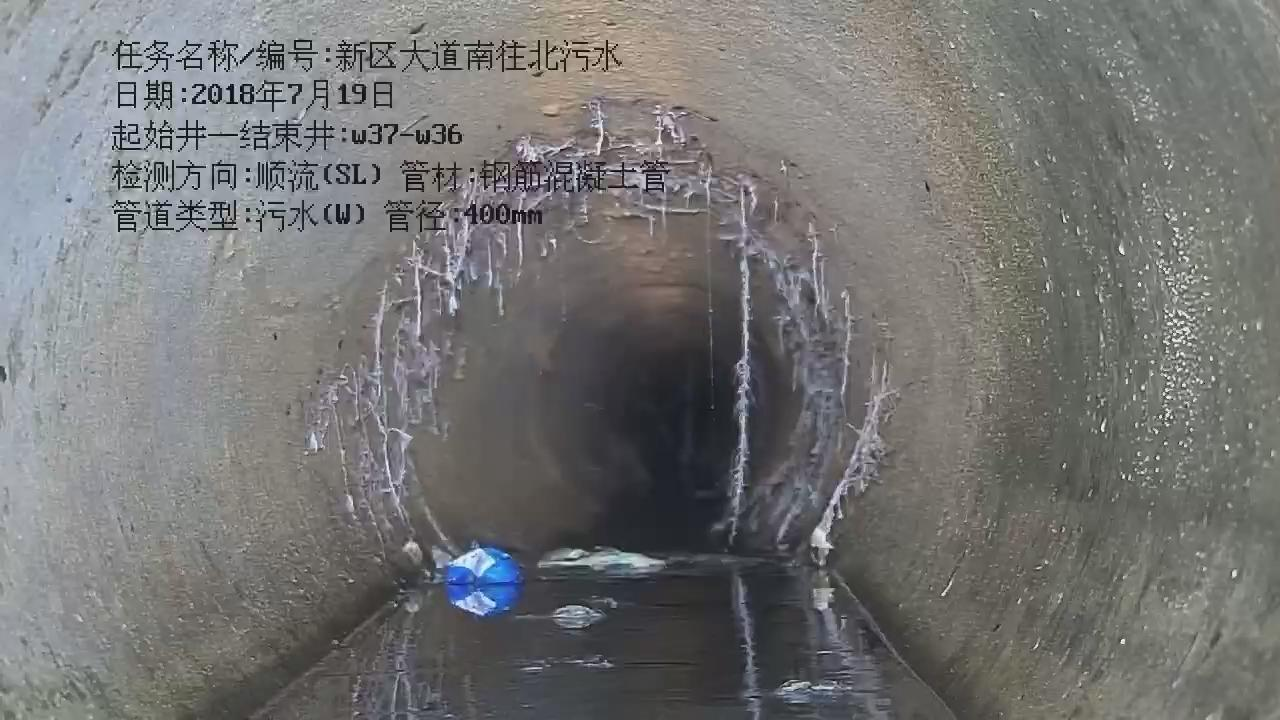SG: (304, 101, 897, 580)
